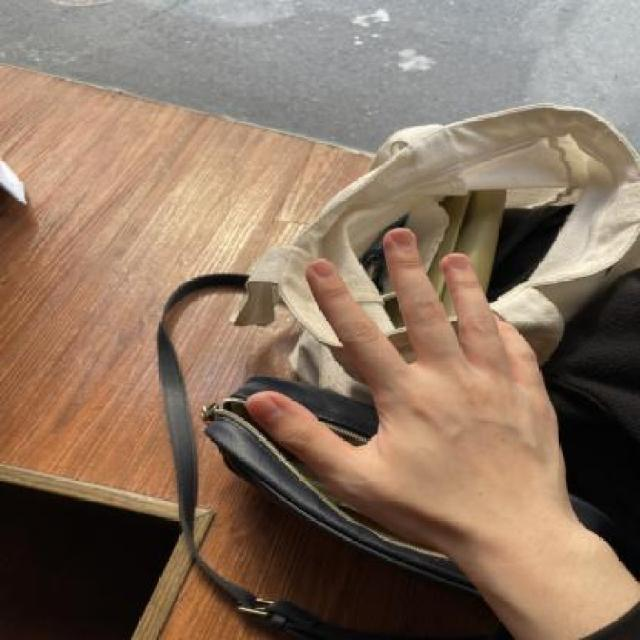no_glove: (219, 222, 590, 576)
